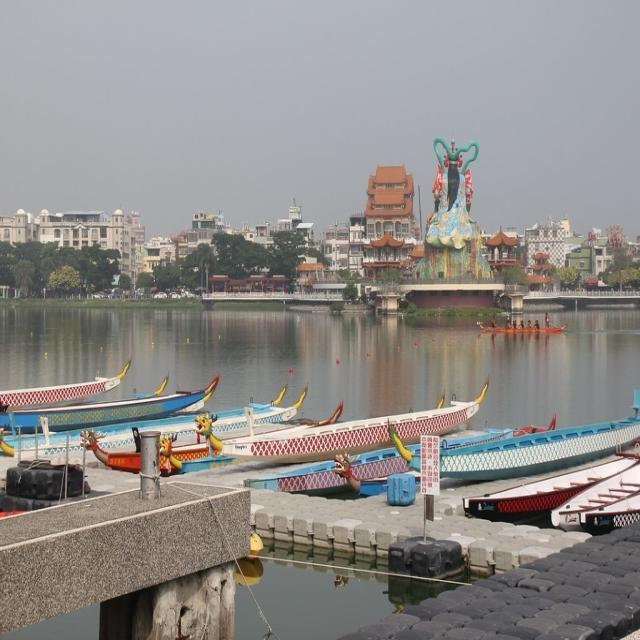boat: (466, 312, 564, 350)
